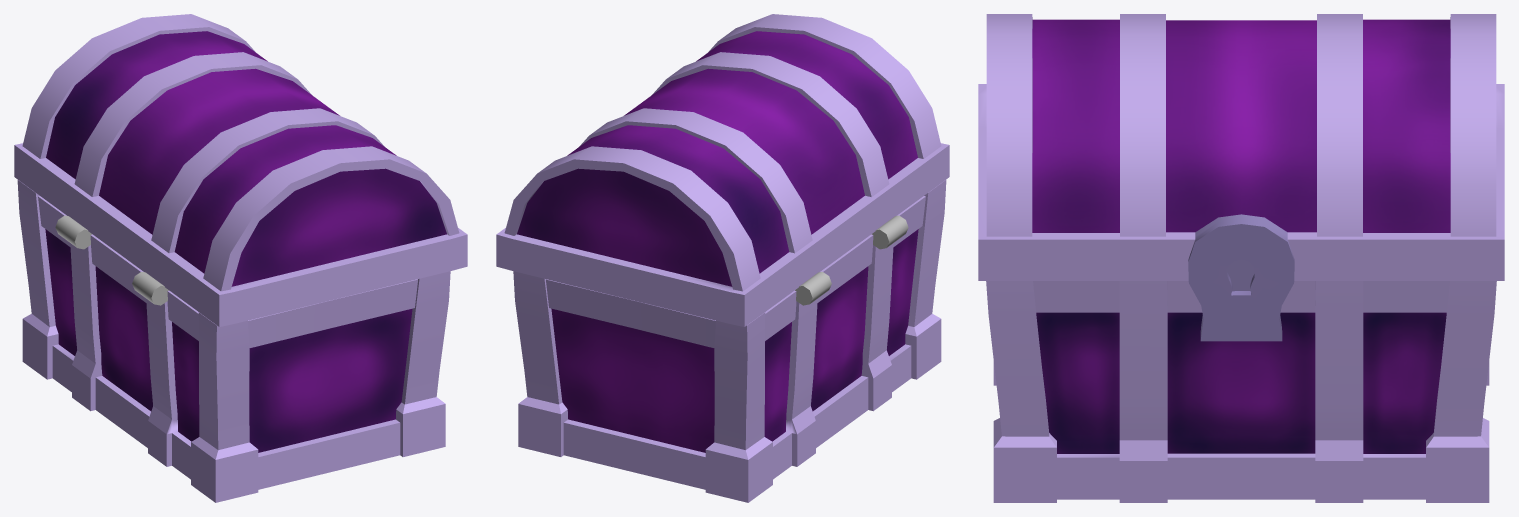
The model's file is mythical_treasure_chest.glb.
The picture shows the model from 3 angles, left to right: view 1: azimuth 30°, elevation 25°; view 2: azimuth 150°, elevation 25°; view 3: azimuth 270°, elevation 25°; orthographic projection. The views are drawn at different scales.
Visible parts, largest first — view 1: Chest_Top, Chest_Bottom; view 2: Chest_Top, Chest_Bottom; view 3: Chest_Top, Chest_Bottom.
Part boxes in pixels (x1,y1,x2,y2): Chest_Top: (14, 14, 467, 326); Chest_Bottom: (17, 180, 450, 502); Chest_Top: (496, 14, 949, 326); Chest_Bottom: (513, 180, 946, 502); Chest_Top: (978, 14, 1504, 341); Chest_Bottom: (986, 281, 1496, 502).
Size of the model in its own units: 2.63 by 2.95 by 3.51.
7 materials, 7 textured.
